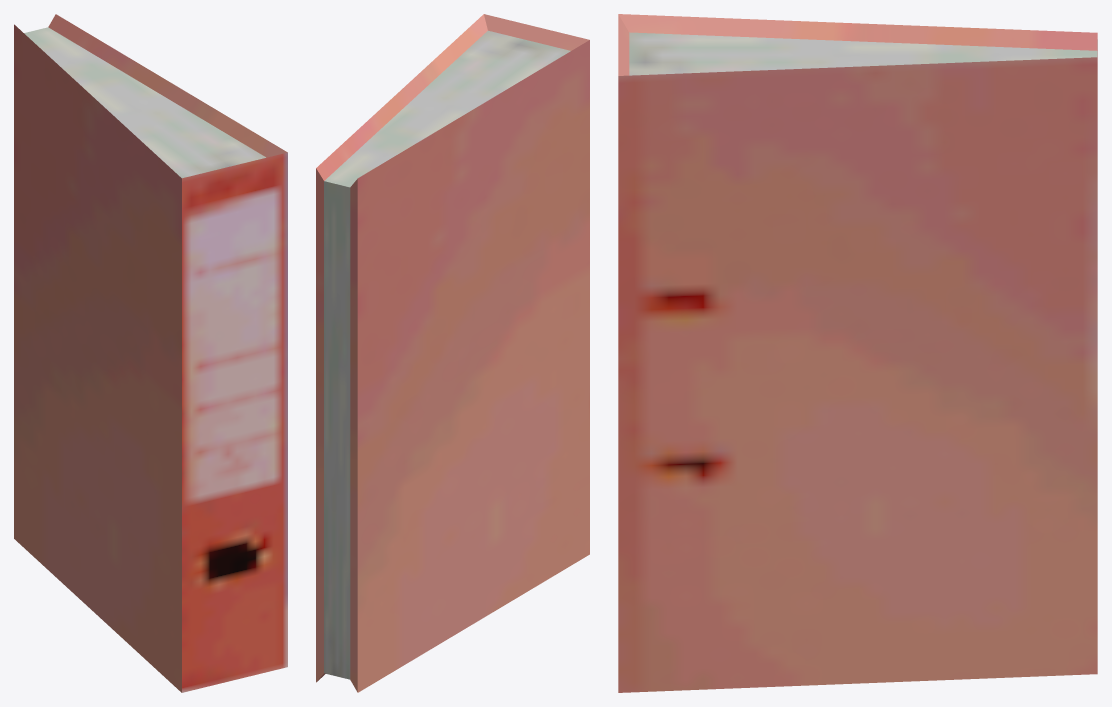
Rendered from file_binder_alt4.obj.
3 renders of one model, left to right at view 1: azimuth 30°, elevation 25°; view 2: azimuth 150°, elevation 25°; view 3: azimuth 270°, elevation 25°, orthographic. The views are drawn at different scales.
Visible parts, largest first — view 1: file_binder_alt4; view 2: file_binder_alt4; view 3: file_binder_alt4.
Part boxes in pixels (box(x1,y1,x2,y2)): file_binder_alt4: box(14, 14, 287, 692); file_binder_alt4: box(316, 14, 589, 692); file_binder_alt4: box(618, 14, 1097, 692).
Bounding box in the file's own units: 0.0911 × 0.4225 × 0.2975.
